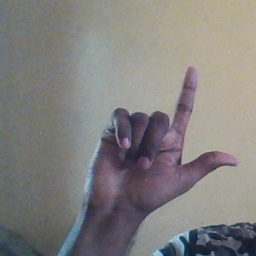L: (80, 66, 240, 215)
